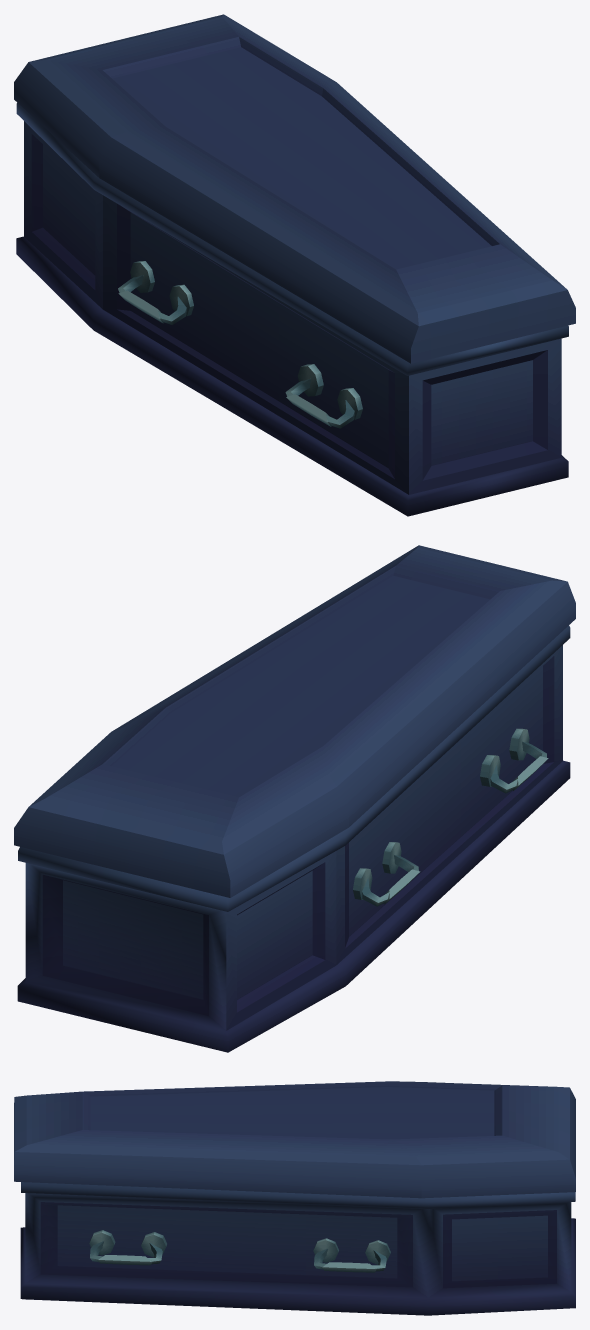
File: Coffin_Vampire.fbx
The picture shows the model from 3 angles, top to bottom: view 1: azimuth 30°, elevation 25°; view 2: azimuth 150°, elevation 25°; view 3: azimuth 270°, elevation 25°; orthographic projection. The views are drawn at different scales.
Parts seen in each view (by area): view 1: Coffin_Vampire_Lid, Coffin_Vampire_Case; view 2: Coffin_Vampire_Lid, Coffin_Vampire_Case; view 3: Coffin_Vampire_Case, Coffin_Vampire_Lid.
Part boxes in pixels (box(x1,y1,x2,y2)): Coffin_Vampire_Lid: box(14, 14, 575, 363); Coffin_Vampire_Case: box(16, 102, 568, 516); Coffin_Vampire_Lid: box(14, 545, 575, 897); Coffin_Vampire_Case: box(17, 625, 570, 1052); Coffin_Vampire_Case: box(20, 1182, 575, 1315); Coffin_Vampire_Lid: box(14, 1081, 575, 1198).
Bounding box in the file's own units: 2.96 × 2.26 × 7.15.
